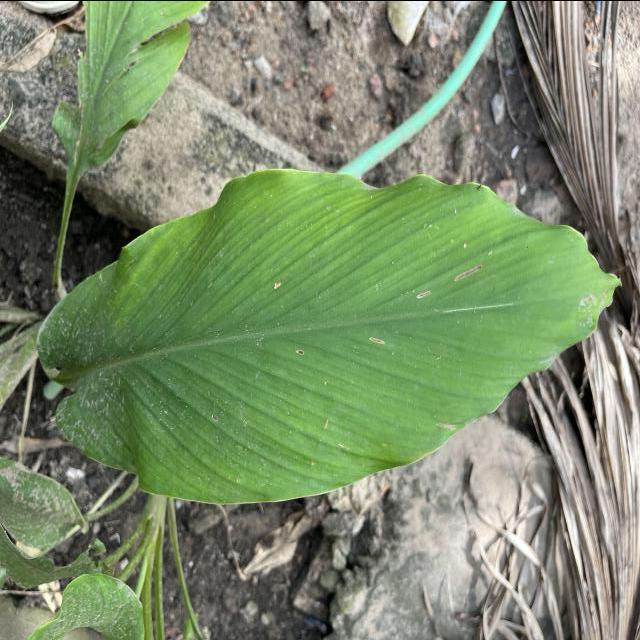Curcuma longa: (33, 163, 624, 507)
